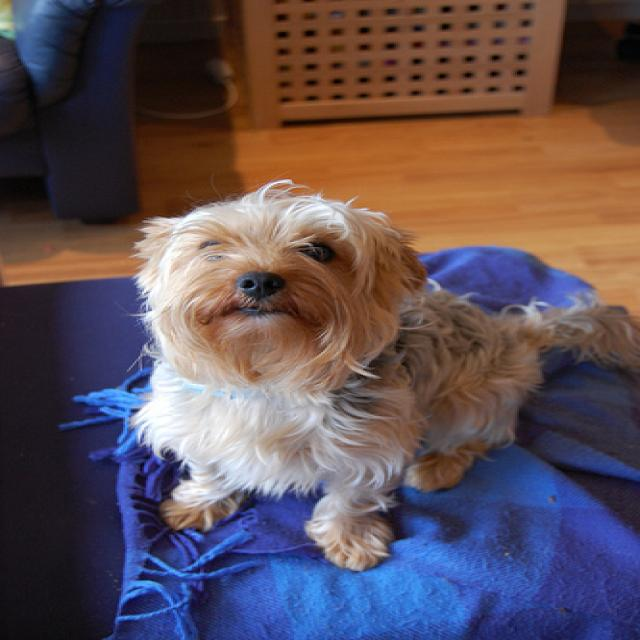dog-yorkshire_terrier: (121, 188, 636, 577)
